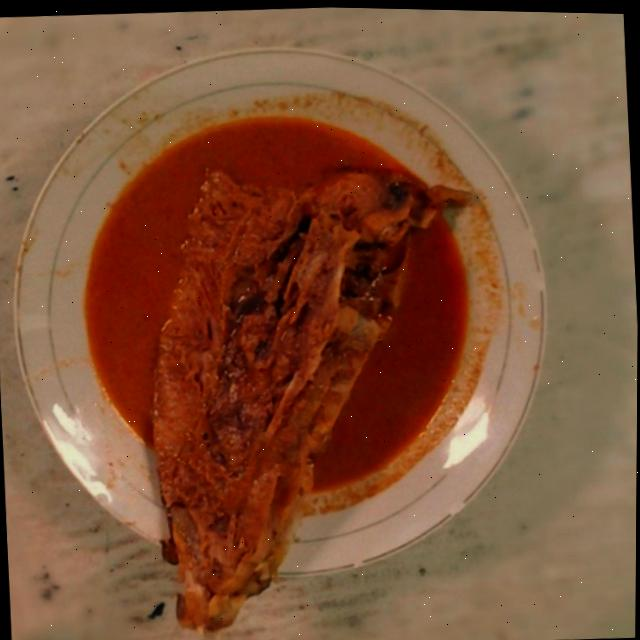熟制海鲜: (20, 38, 601, 640)
